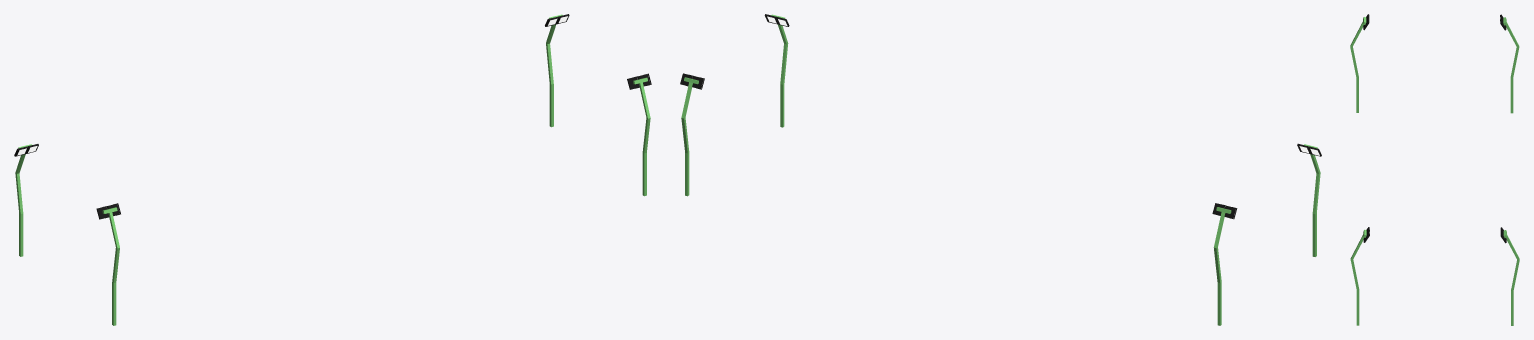
The model's file is solo_3.glb.
3 renders of one model, left to right at view 1: azimuth 30°, elevation 25°; view 2: azimuth 150°, elevation 25°; view 3: azimuth 270°, elevation 25°, orthographic. The views are drawn at different scales.
Parts seen in each view (by area): view 1: 3 вариант; view 2: 3 вариант; view 3: 3 вариант.
Part boxes in pixels (box(x1,y1,x2,y2)): 3 вариант: box(14, 14, 651, 325); 3 вариант: box(680, 14, 1321, 325); 3 вариант: box(1350, 14, 1519, 325).
Size of the model in its own units: 20.91 by 4.14 by 6.76.
